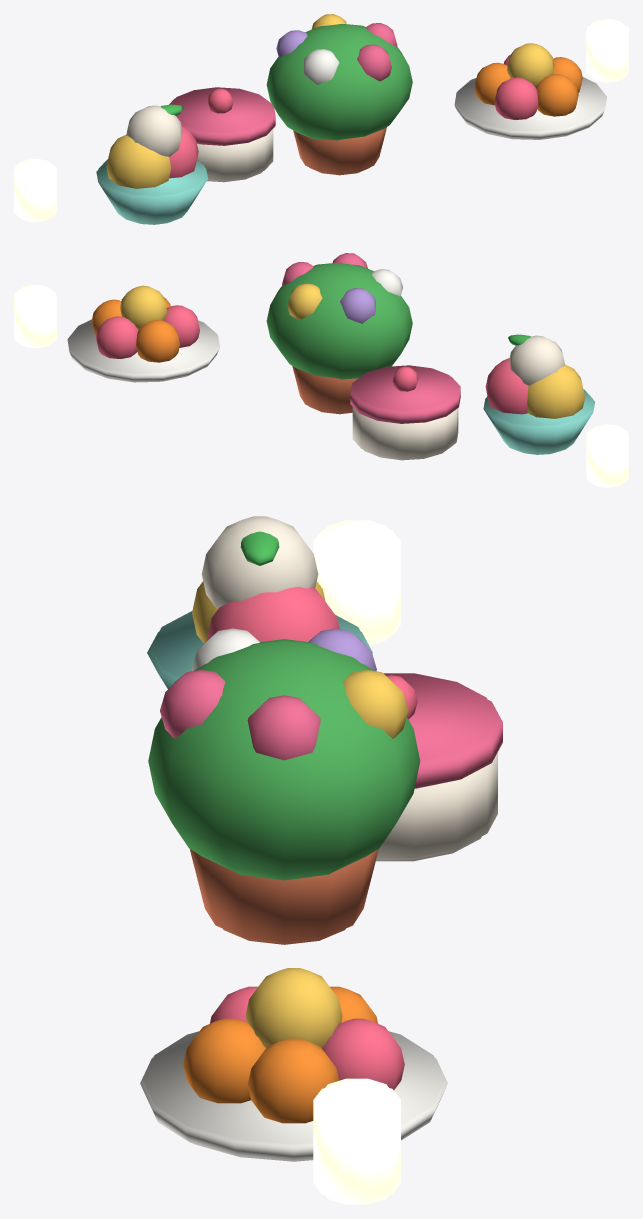
Rendered from FestivalDishesProp.fbx.
3 views of the same model, one above another, from view 1: azimuth 30°, elevation 25°; view 2: azimuth 150°, elevation 25°; view 3: azimuth 270°, elevation 25° (orthographic). The views are drawn at different scales.
Visible parts, largest first — view 1: FestivalDishesProp; view 2: FestivalDishesProp; view 3: FestivalDishesProp.
Boxes of the visible parts, x1,y1,x2,y2 form: FestivalDishesProp: (14,14,628,224); FestivalDishesProp: (14,253,628,487); FestivalDishesProp: (140,516,502,1204).
Size of the model in its own units: 2.89 by 0.588 by 0.7469.
